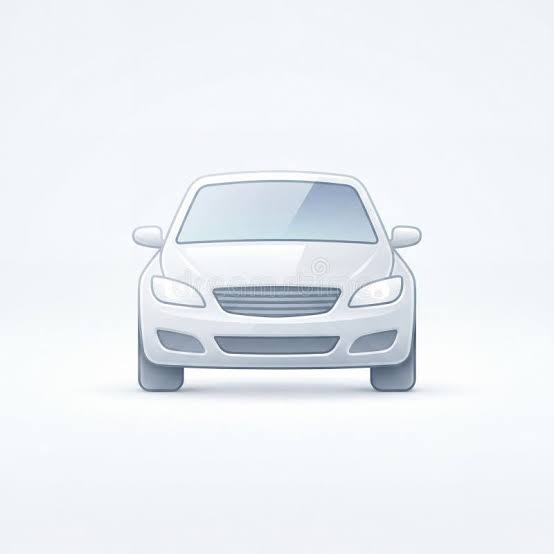car: (139, 159, 427, 393)
